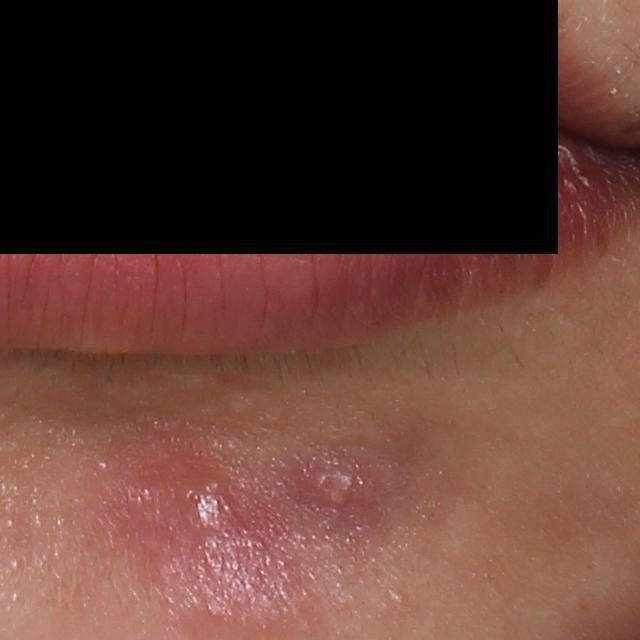hypertrophic_scar: (223, 388, 267, 419), (169, 370, 213, 392)
pustule: (319, 457, 358, 512)
